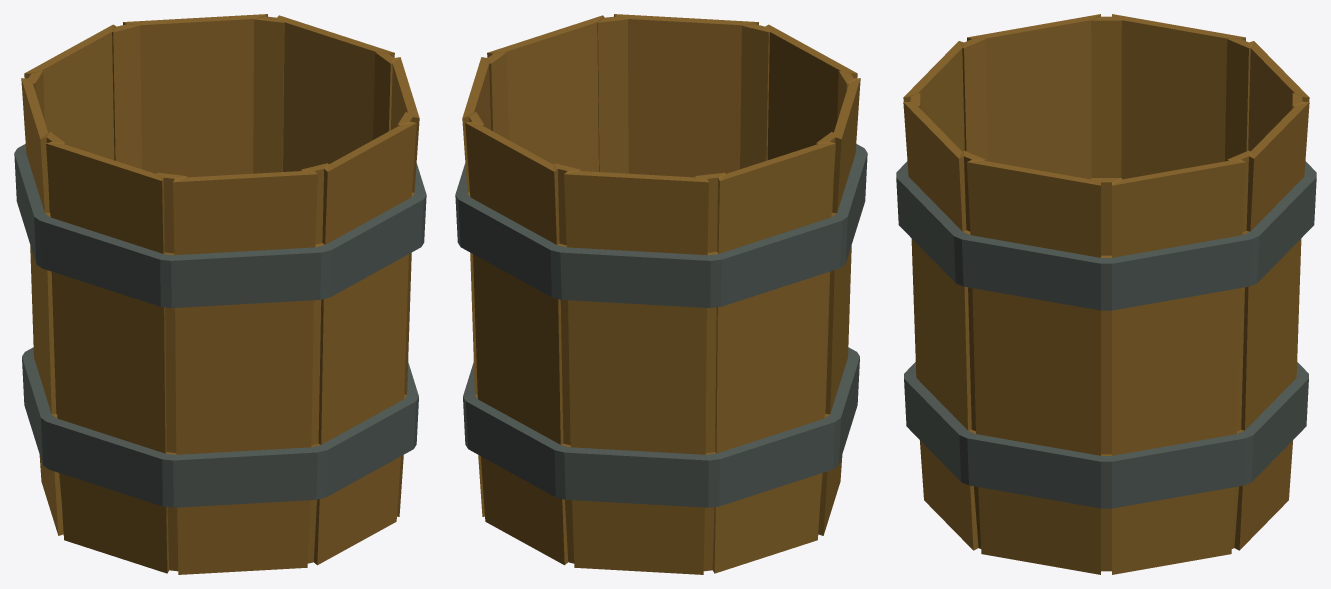
File: ember_sumur.fbx
3 renders of one model, left to right at view 1: azimuth 30°, elevation 25°; view 2: azimuth 150°, elevation 25°; view 3: azimuth 270°, elevation 25°, orthographic.
Visible parts, largest first — view 1: ember sumur; view 2: ember sumur; view 3: ember sumur.
Boxes of the visible parts, <box> form: ember sumur: <box>14,14,426,574</box>; ember sumur: <box>455,14,867,574</box>; ember sumur: <box>896,14,1316,574</box>.
Bounding box in the file's own units: 65.71 × 68.71 × 65.71.
